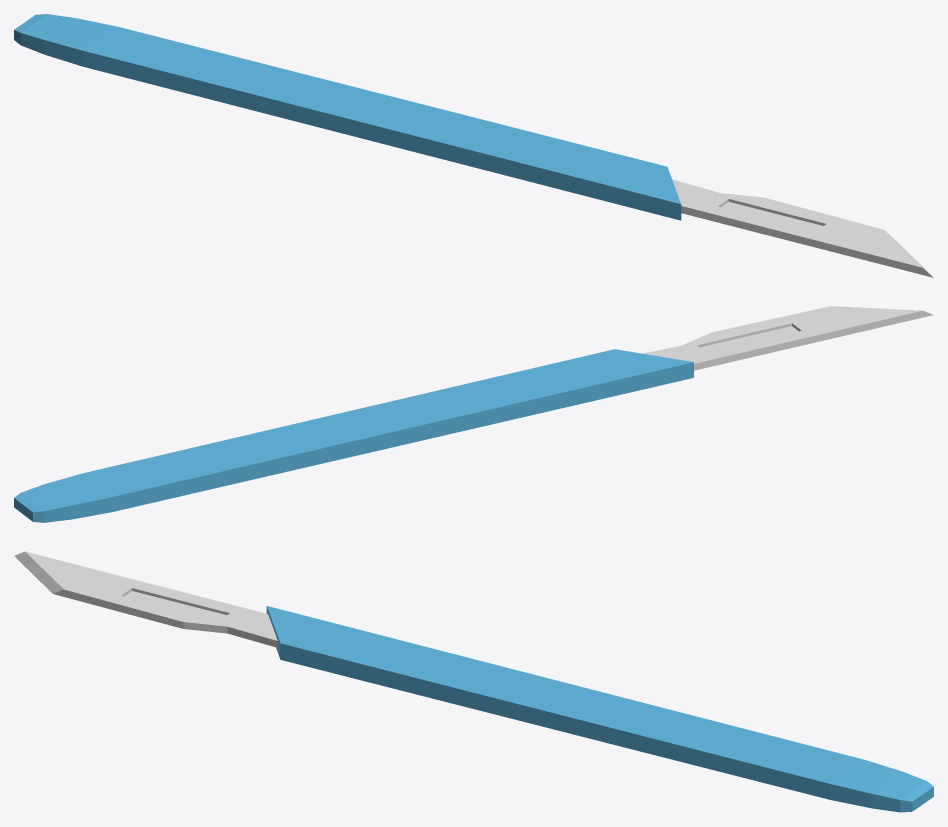
Rendered from Scalpel.fbx.
The picture shows the model from 3 angles, top to bottom: view 1: azimuth 90°, elevation 25°; view 2: azimuth 150°, elevation 25°; view 3: azimuth 270°, elevation 25°; orthographic projection. The views are drawn at different scales.
Parts seen in each view (by area): view 1: Scalpel; view 2: Scalpel; view 3: Scalpel.
Part boxes in pixels (left/top/right/bottom): Scalpel: left=14, top=14, right=933, bottom=277; Scalpel: left=14, top=306, right=933, bottom=522; Scalpel: left=14, top=551, right=933, bottom=812.
Bounding box in the file's own units: 21.2 × 0.6413 × 32.39.
